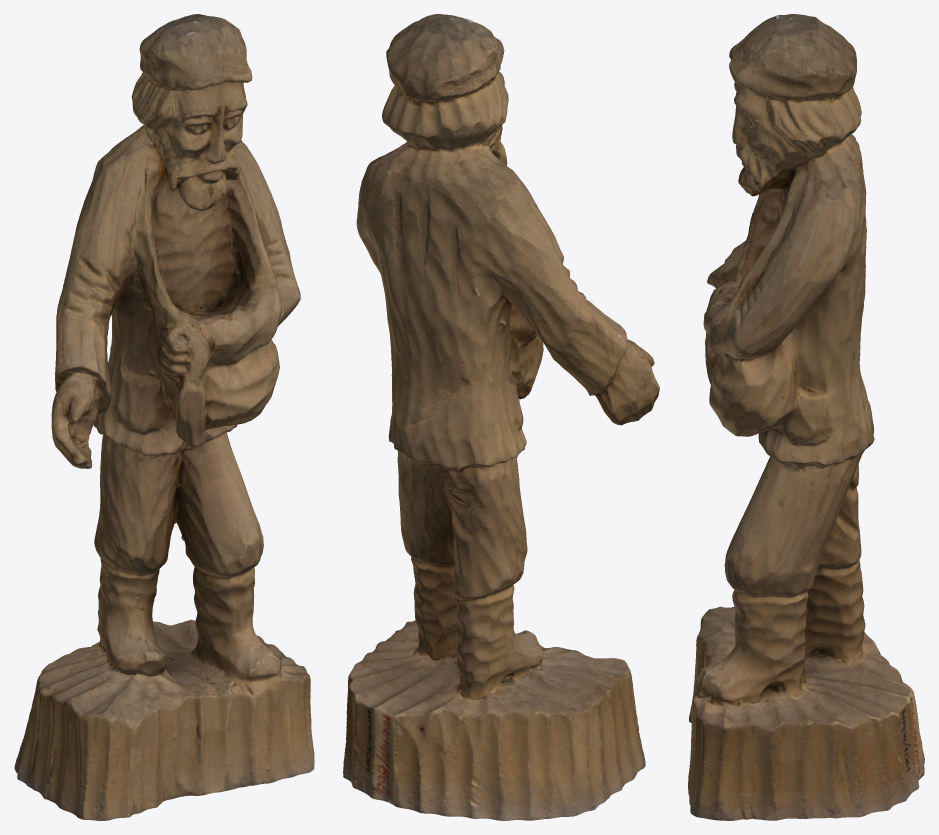
Rendered from MPL_W_E_869_lowpoly.glb.
3 views of the same model, side by side, from view 1: azimuth 30°, elevation 25°; view 2: azimuth 150°, elevation 25°; view 3: azimuth 270°, elevation 25° (orthographic). The views are drawn at different scales.
Parts seen in each view (by area): view 1: MPL_W_E_869_lowpoly; view 2: MPL_W_E_869_lowpoly; view 3: MPL_W_E_869_lowpoly.
Boxes of the visible parts, box(x1,y1,x2,y2) form: MPL_W_E_869_lowpoly: box(14, 14, 314, 820); MPL_W_E_869_lowpoly: box(343, 14, 659, 820); MPL_W_E_869_lowpoly: box(688, 14, 924, 820).
Size of the model in its own units: 0.1209 by 0.3298 by 0.093.
Materials: 1 (1 with a texture image).
